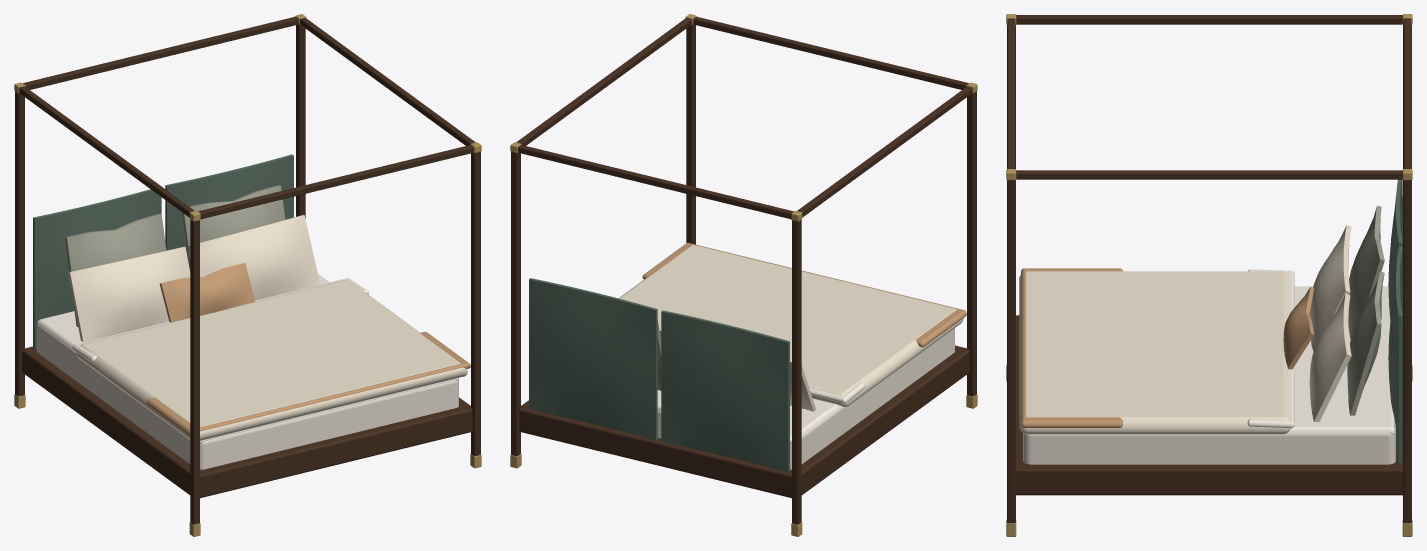
Rendered from atelier-bed-canopy-walnut.glb.
3 views of the same model, side by side, from view 1: azimuth 30°, elevation 25°; view 2: azimuth 150°, elevation 25°; view 3: azimuth 270°, elevation 25° (orthographic). The views are drawn at different scales.
Bounding box in the file's own units: 1.92 × 2.05 × 2.07.
